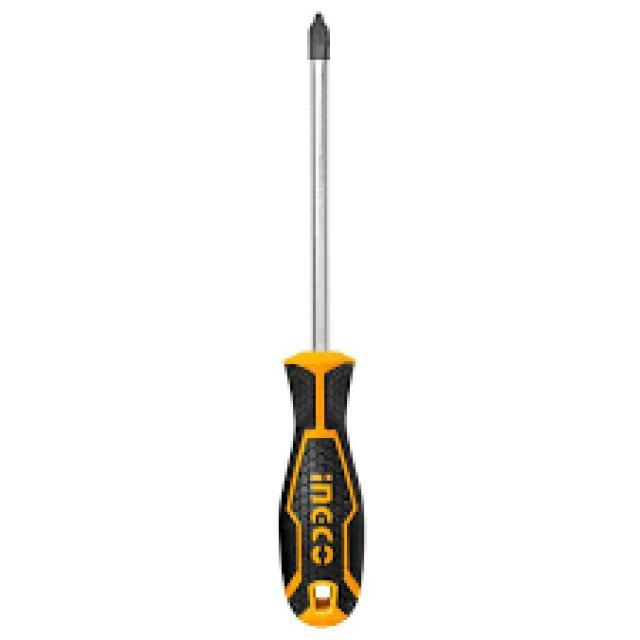screwdriver: (276, 9, 367, 632)
